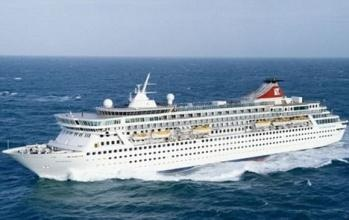youlun: (5, 79, 347, 185)
